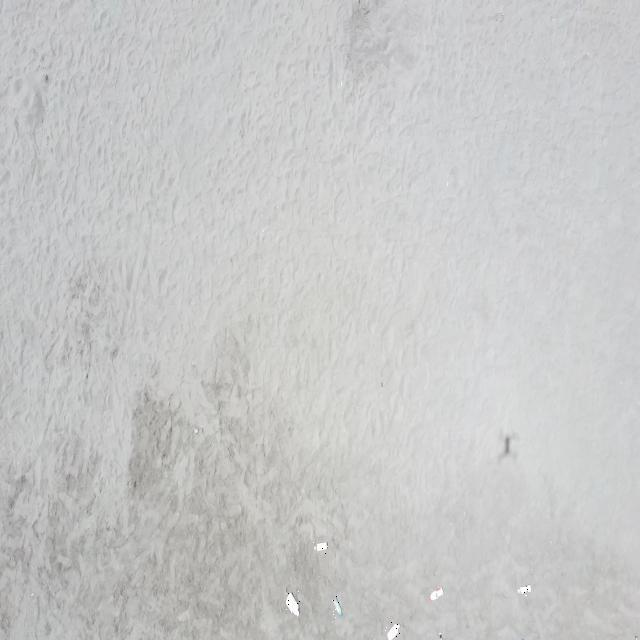plastic-bottle: (286, 591, 300, 617), (385, 621, 400, 640), (332, 595, 344, 618), (428, 585, 444, 602), (313, 540, 329, 554), (517, 584, 532, 597), (438, 631, 445, 640)
